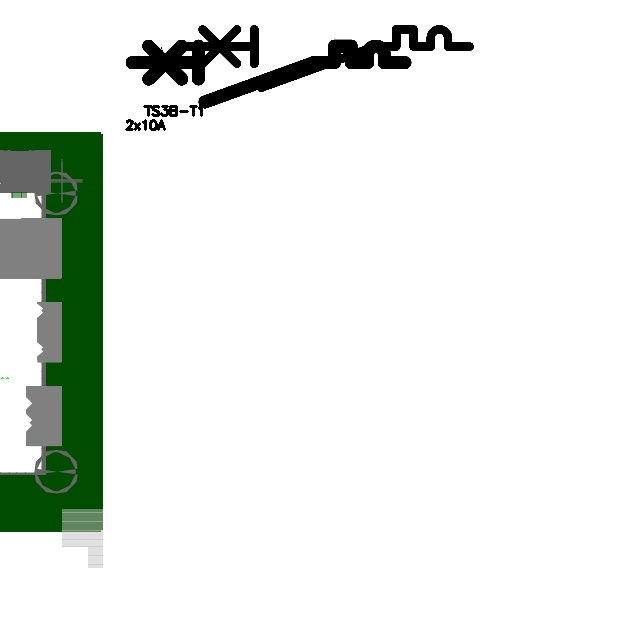interruptor_termomagnetico: (177, 22, 476, 95), (125, 39, 412, 109)
